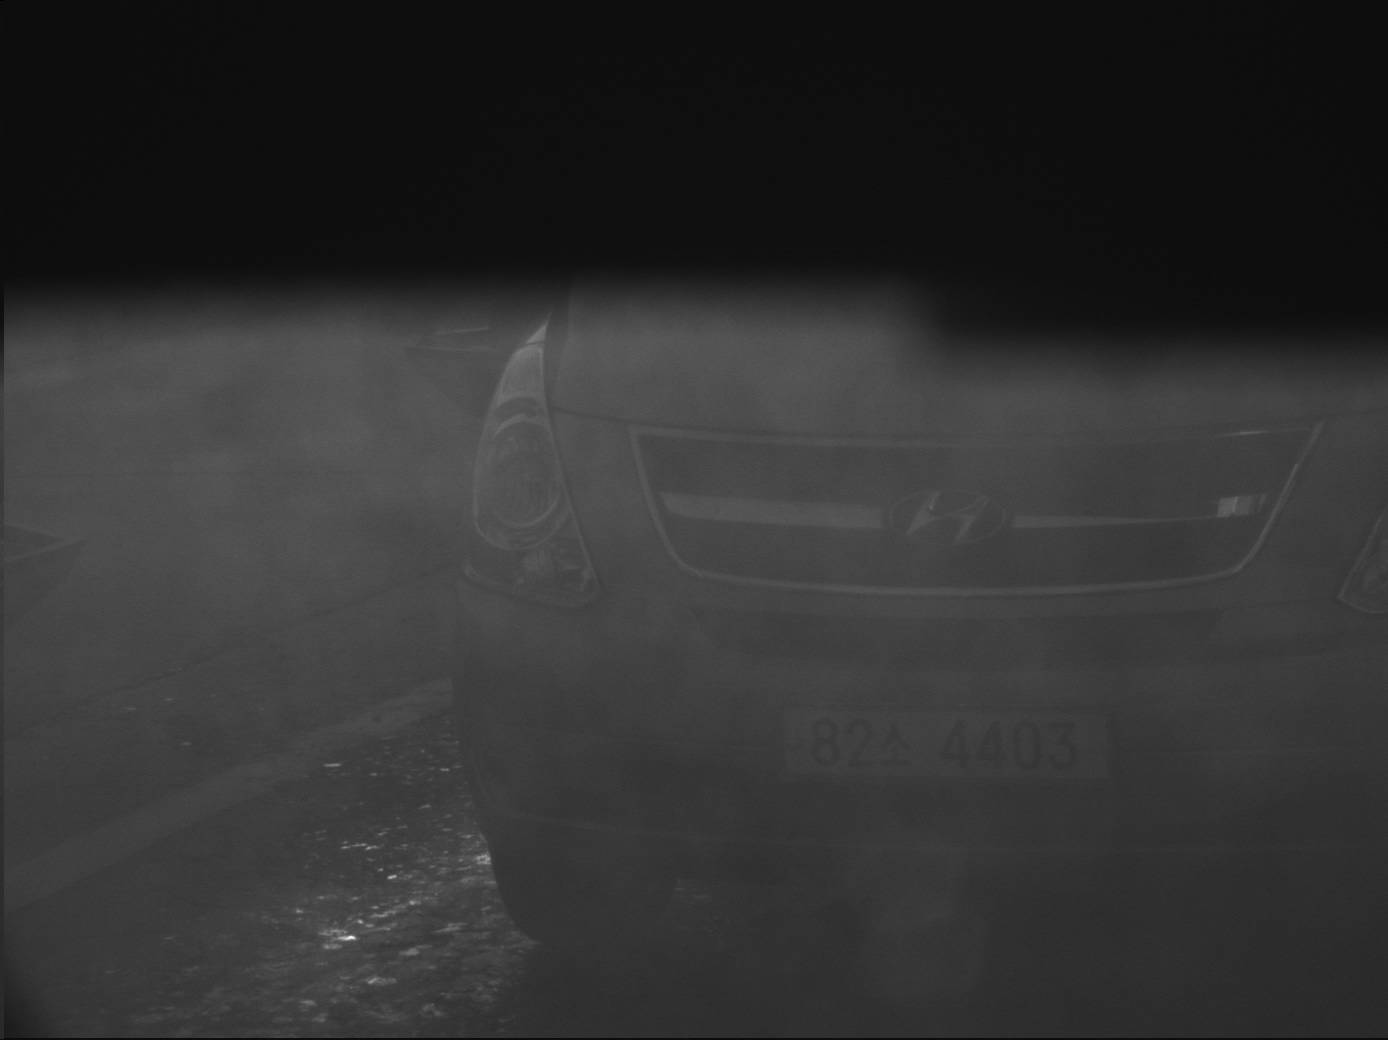car: (452, 94, 1387, 955)
plate: (720, 698, 1121, 785)
